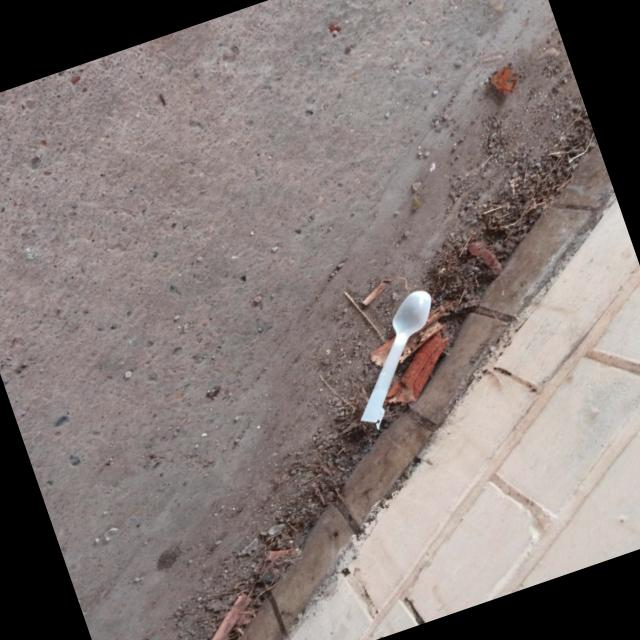less trash: (361, 290, 431, 427)
